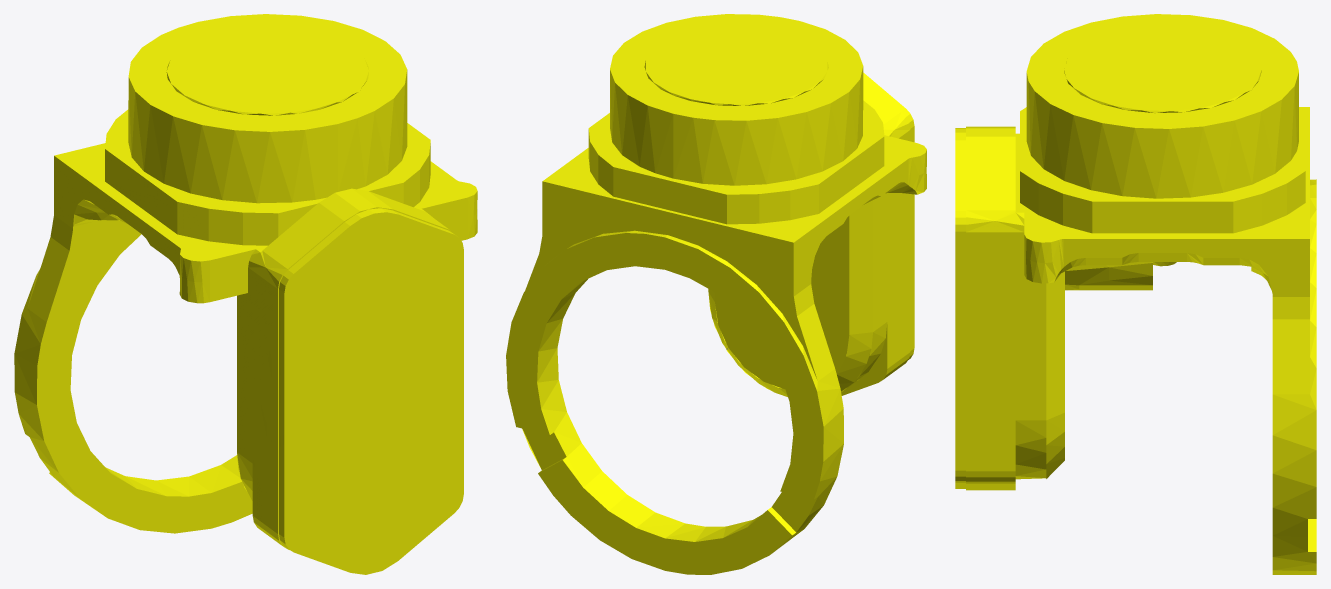
3 views of the same model, side by side, from view 1: azimuth 30°, elevation 25°; view 2: azimuth 150°, elevation 25°; view 3: azimuth 270°, elevation 25° (orthographic). The views are drawn at different scales.
Parts seen in each view (by area): view 1: node; view 2: node; view 3: node.
Boxes of the visible parts, bbox=[...] form: node: bbox=[14, 14, 477, 574]; node: bbox=[506, 14, 926, 574]; node: bbox=[955, 14, 1316, 574].
Size of the model in its own units: 179 by 244 by 164.
